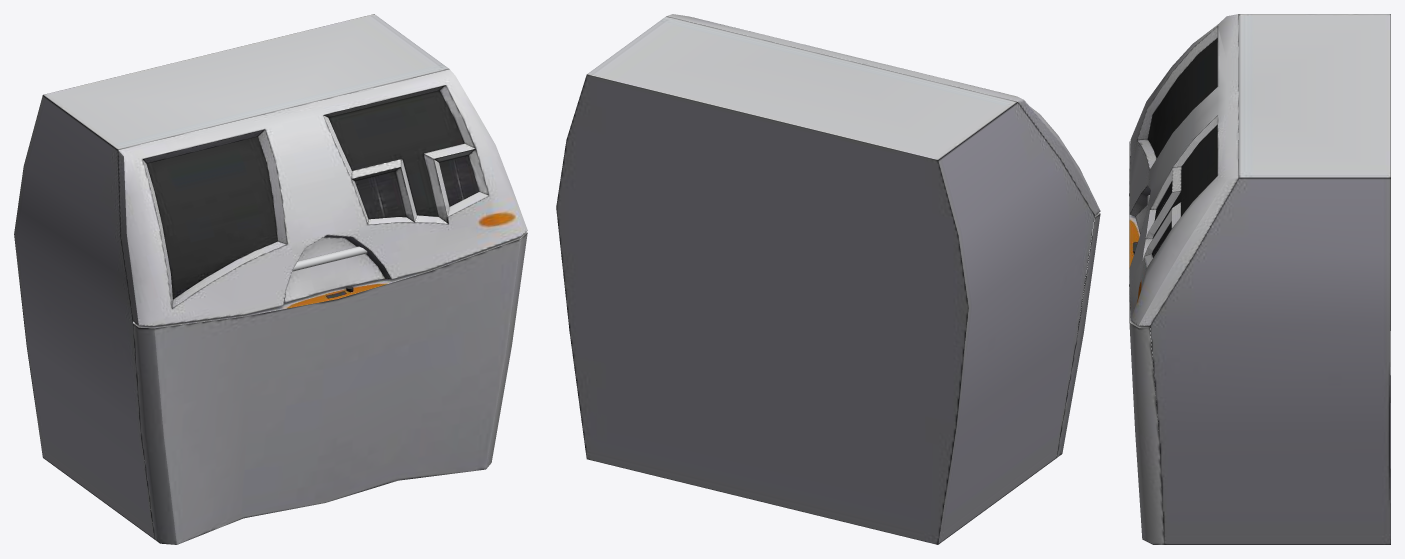
3 renders of one model, left to right at view 1: azimuth 30°, elevation 25°; view 2: azimuth 150°, elevation 25°; view 3: azimuth 270°, elevation 25°, orthographic. The views are drawn at different scales.
Visible parts, largest first — view 1: Zprinter450_0; view 2: Zprinter450_0; view 3: Zprinter450_0.
Boxes of the visible parts, left/top/right/bottom form: Zprinter450_0: left=14, top=14, right=527, bottom=544; Zprinter450_0: left=556, top=14, right=1100, bottom=544; Zprinter450_0: left=1129, top=14, right=1390, bottom=544.
Size of the model in its own units: 1.09 by 0.9717 by 0.6276.
Materials: 1 (1 with a texture image).
